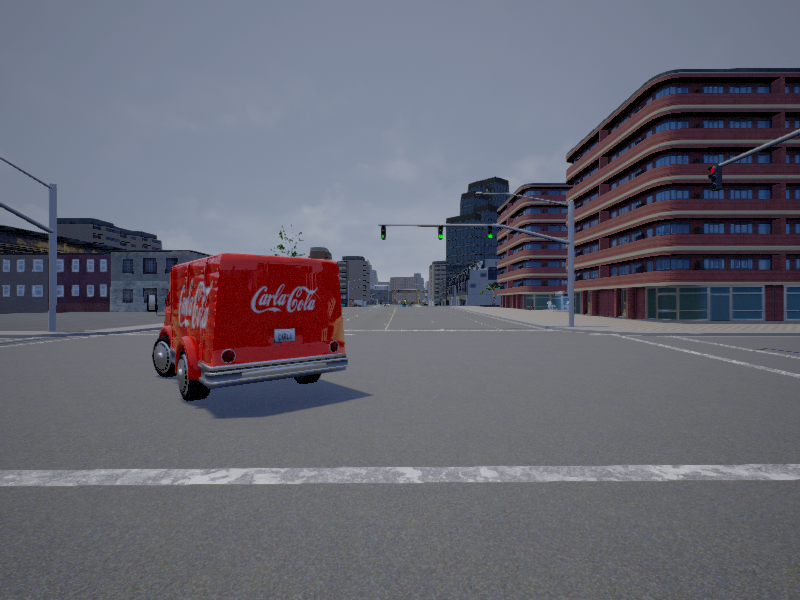Benign: (155, 255, 349, 399)
